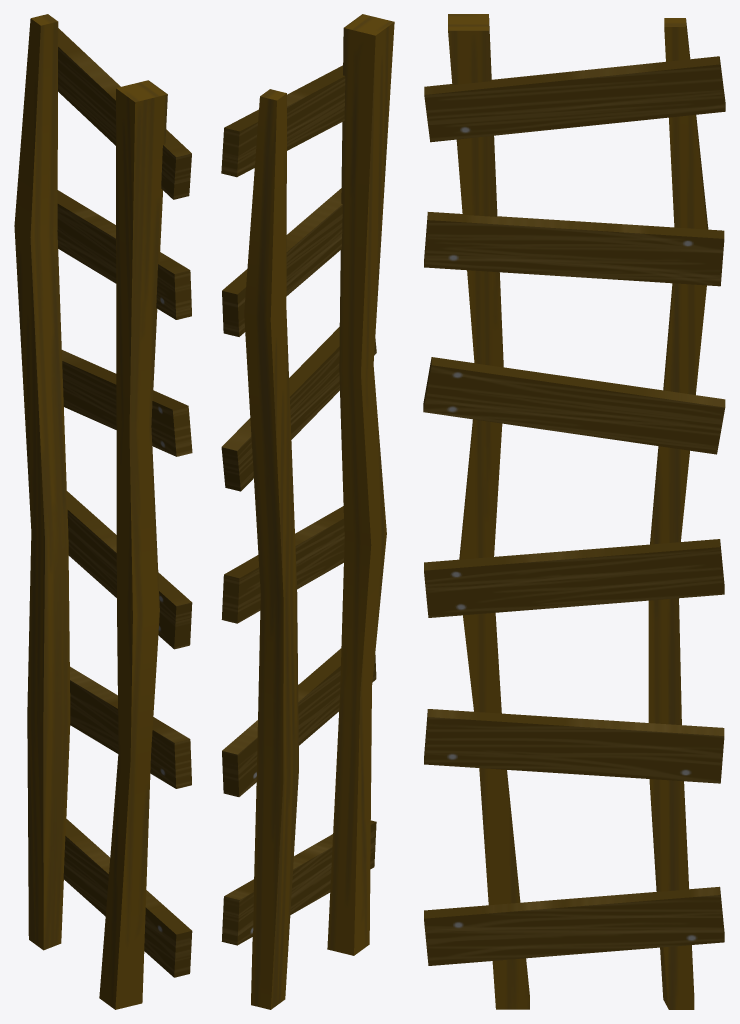
The model's file is Ladder.fbx.
3 renders of one model, left to right at view 1: azimuth 30°, elevation 25°; view 2: azimuth 150°, elevation 25°; view 3: azimuth 270°, elevation 25°, orthographic. The views are drawn at different scales.
Parts seen in each view (by area): view 1: pCube15; view 2: pCube15; view 3: pCube15.
Part boxes in pixels (x1,y1,x2,y2): pCube15: (14, 14, 192, 1009); pCube15: (221, 14, 394, 1009); pCube15: (423, 14, 725, 1009).
Size of the model in its own units: 0.8395 by 16.23 by 4.54.
